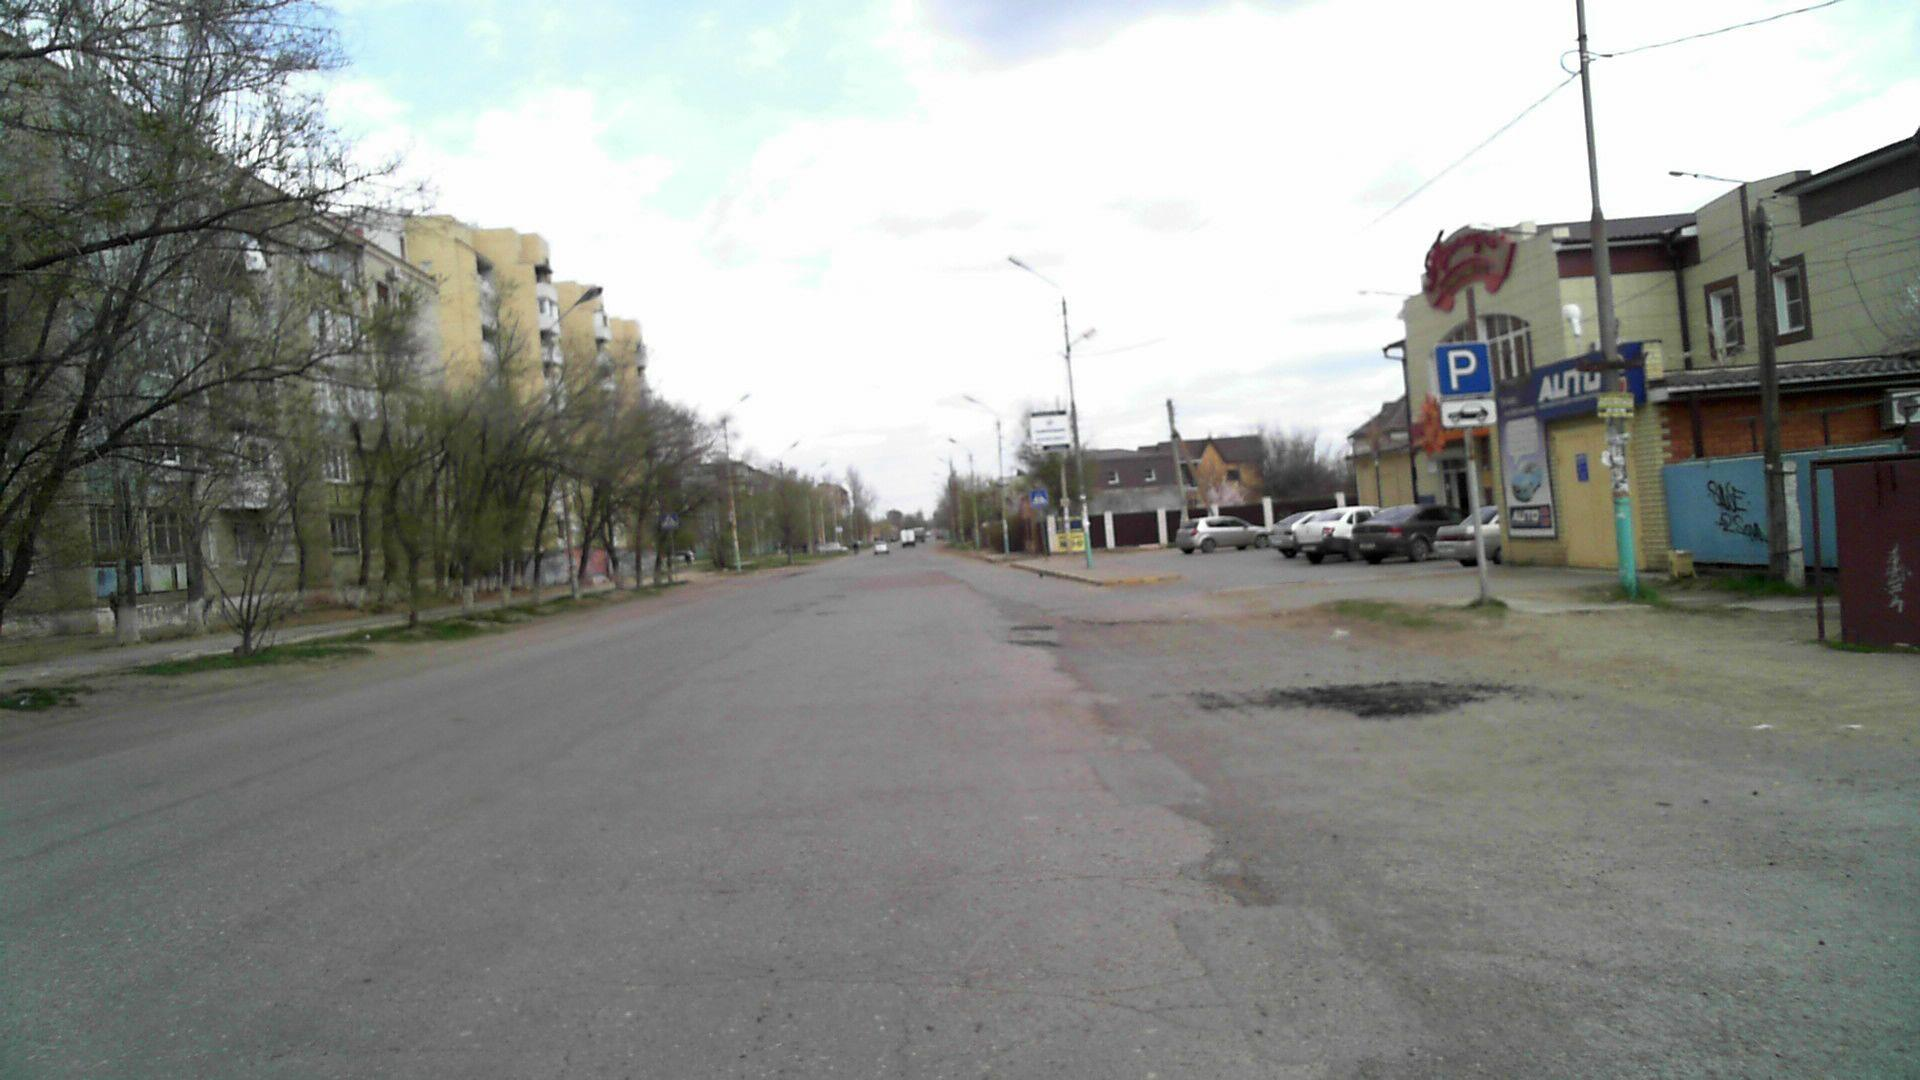5_19_1: (1031, 491, 1047, 506)
5_19_2: (661, 512, 678, 530)
6_4: (1432, 339, 1494, 394)
8_4_3_2: (1438, 396, 1498, 428)
